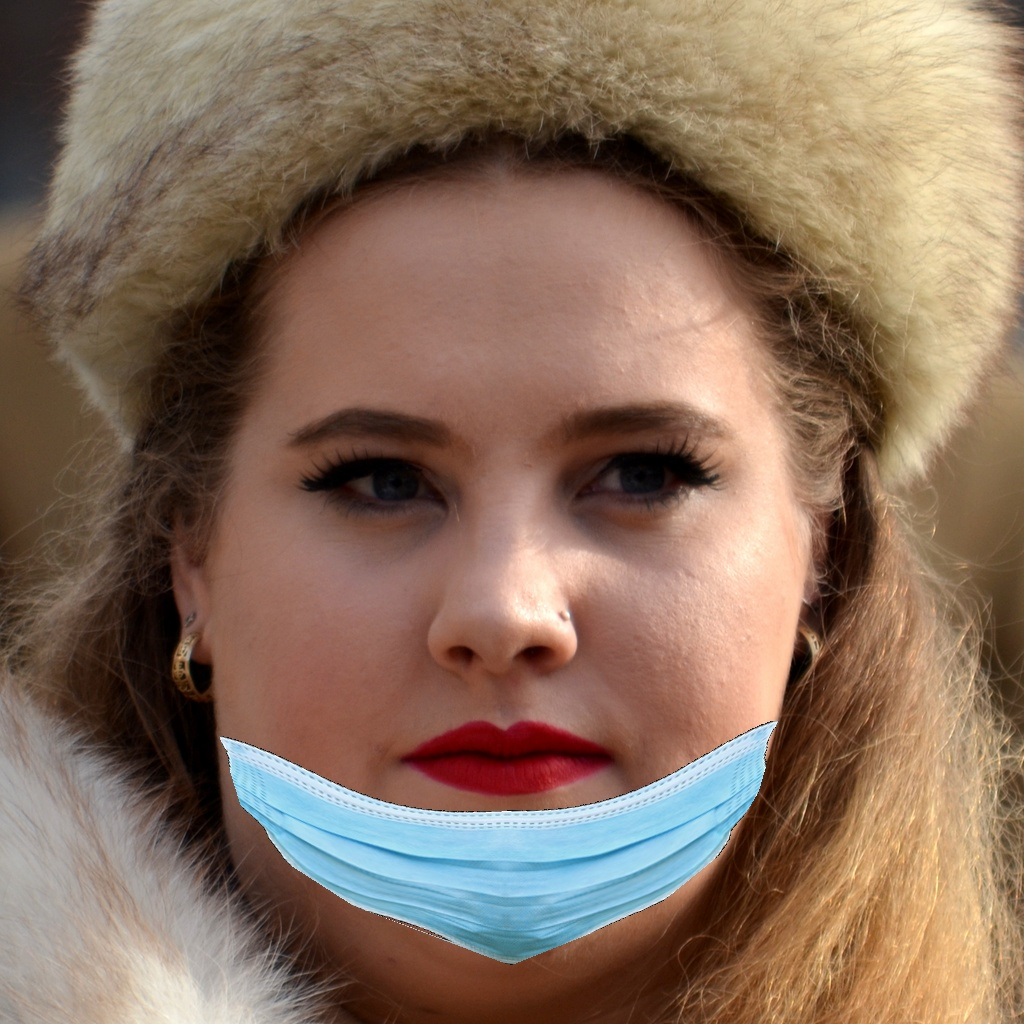mascarilla_mal_puesta: (204, 408, 837, 973)
